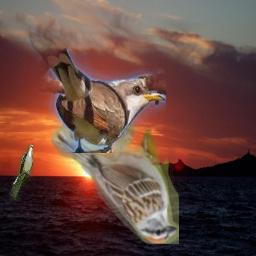Cuckoo: (29, 24, 166, 153), (8, 145, 33, 200)
Sparrow: (51, 120, 179, 244)
